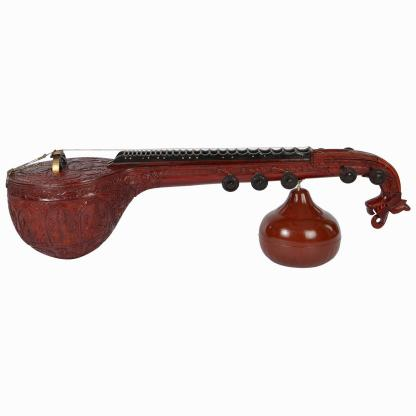Veena: (3, 135, 414, 275)
